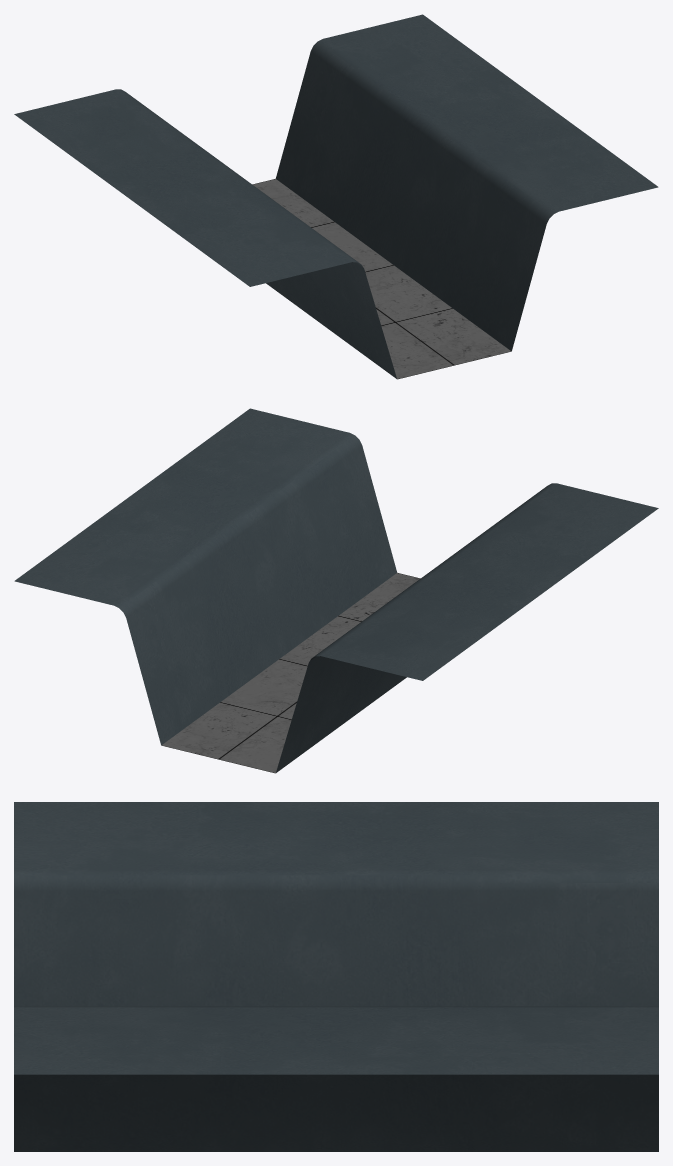
Rendered from tileset.fbx_Collection_9.fbx.
3 views of the same model, one above another, from view 1: azimuth 30°, elevation 25°; view 2: azimuth 150°, elevation 25°; view 3: azimuth 270°, elevation 25° (orthographic). The views are drawn at different scales.
Visible parts, largest first — view 1: 17_0_01_MSH; view 2: 17_0_01_MSH; view 3: 17_0_01_MSH.
Part boxes in pixels (x1,y1,x2,y2): 17_0_01_MSH: [14, 14, 658, 379]; 17_0_01_MSH: [14, 408, 658, 773]; 17_0_01_MSH: [14, 802, 658, 1151].
Bounding box in the file's own units: 500 × 150 × 500.
